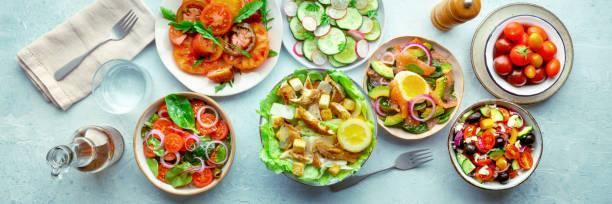Braised Crucian Carp: (260, 71, 374, 188), (155, 0, 280, 98), (470, 2, 574, 106), (132, 92, 234, 196), (363, 35, 462, 141), (446, 99, 542, 191), (278, 0, 382, 71)
